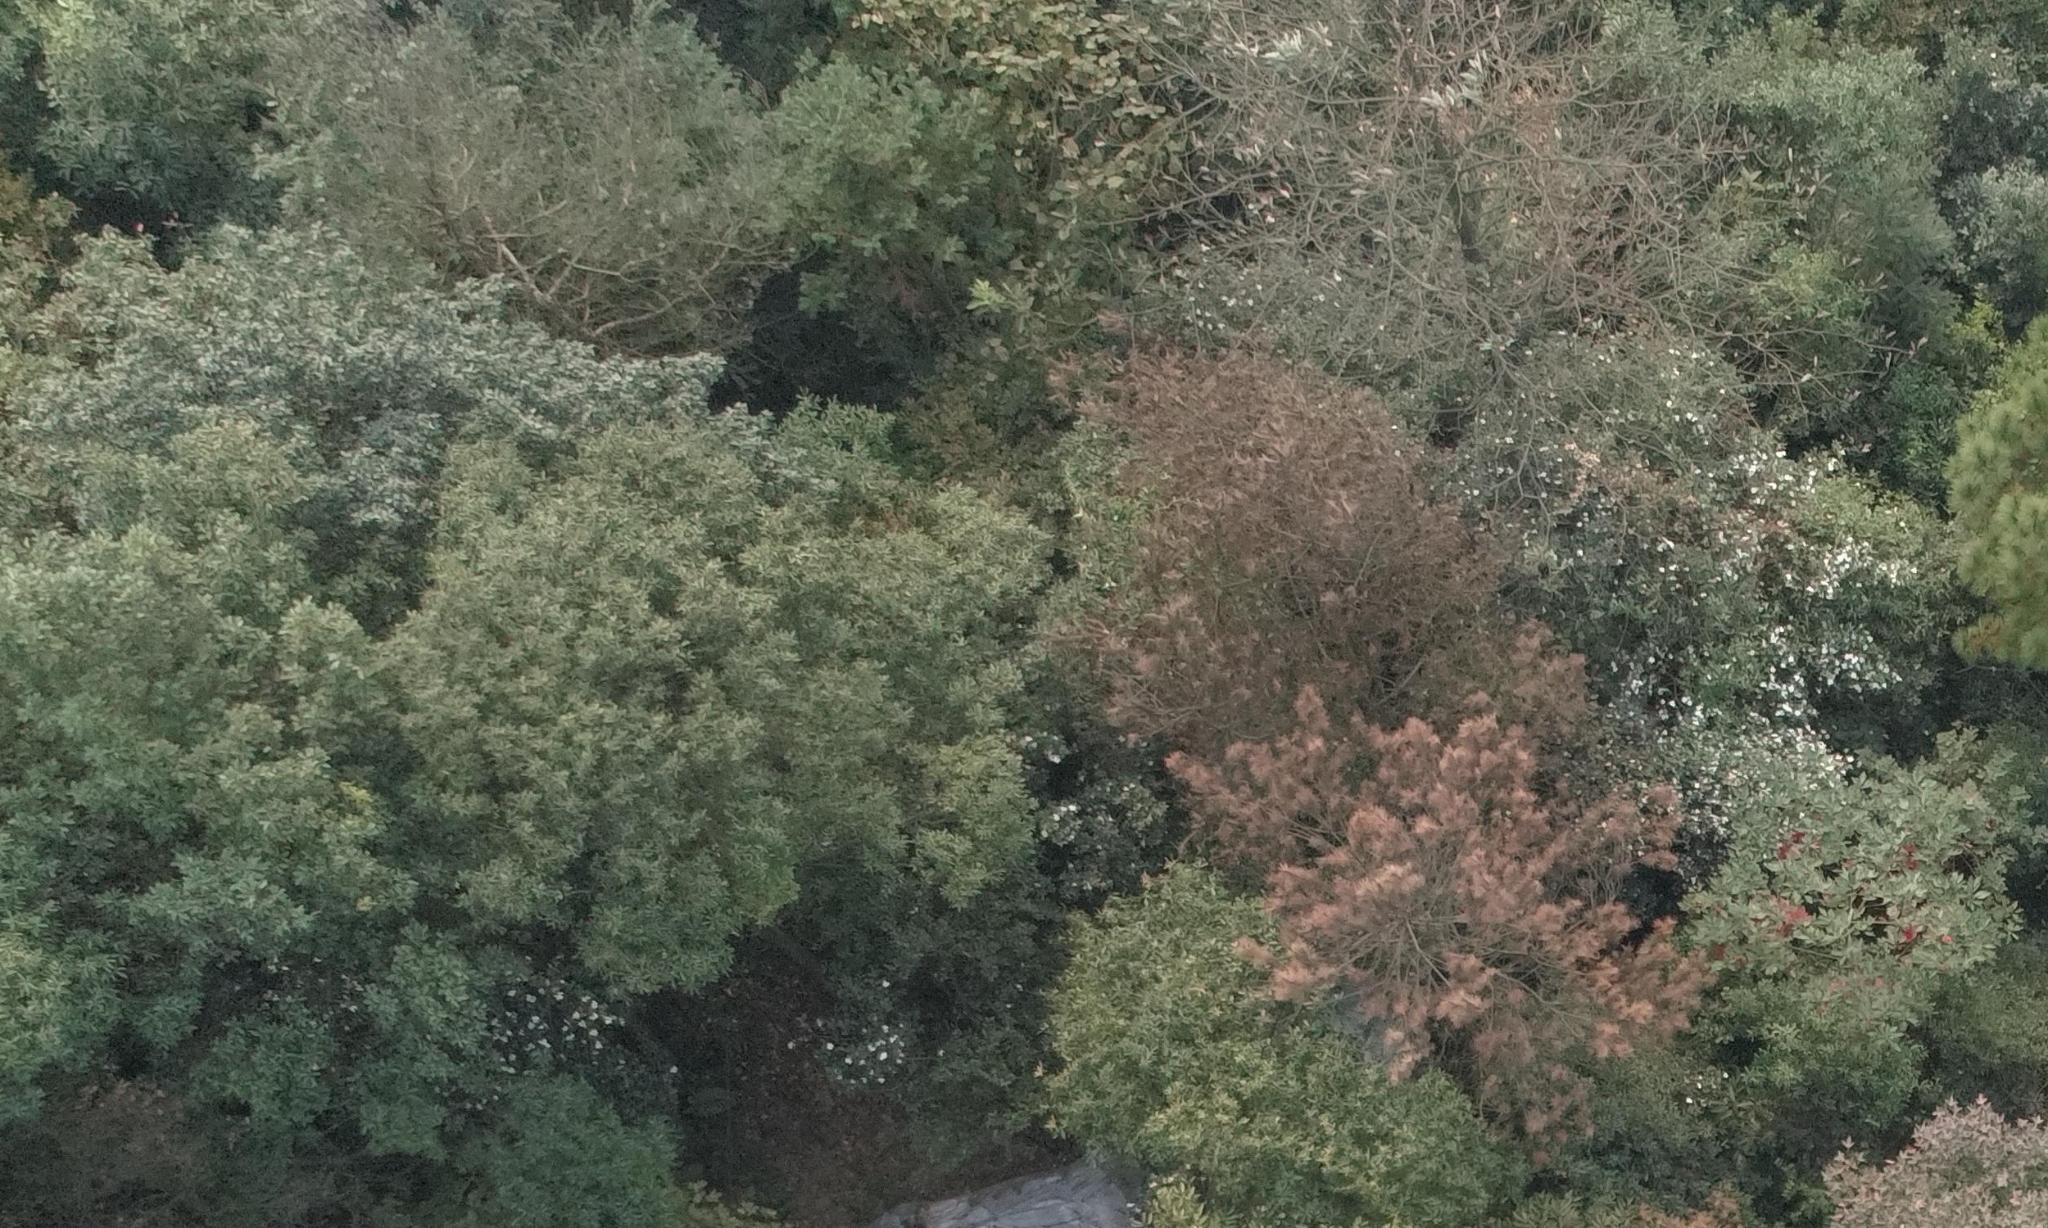heavy: (1168, 691, 1690, 1076), (1036, 303, 1452, 664)
